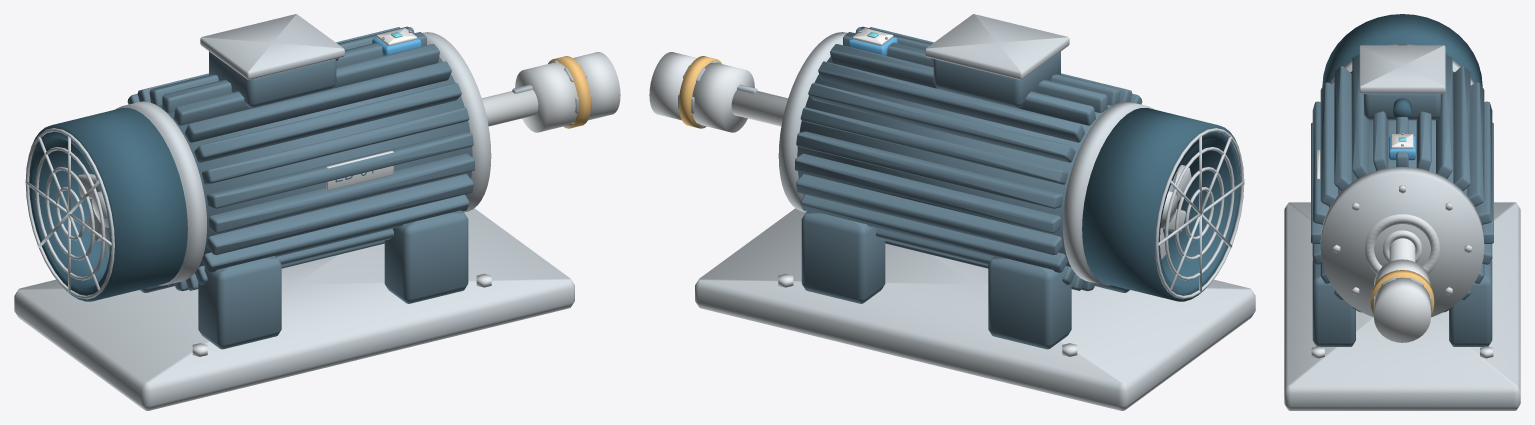
The model's file is induction_motor.glb.
3 views of the same model, side by side, from view 1: azimuth 30°, elevation 25°; view 2: azimuth 150°, elevation 25°; view 3: azimuth 270°, elevation 25° (orthographic). The views are drawn at different scales.
Parts seen in each view (by area): view 1: induction_motor/Base_Base, induction_motor/Shroud, induction_motor/Stator_Shell, induction_motor/Mounting_Foot_03, induction_motor/Mounting_Foot, induction_motor/Terminal_Lid, induction_motor/Cooling_Fin_18, induction_motor/Cooling_Fin_23, induction_motor/Cooling_Fin_19, induction_motor/Cooling_Fin_22, induction_motor/Cooling_Fin_20, induction_motor/Cooling_Fin_17 (+17 smaller); view 2: induction_motor/Base_Base, induction_motor/Shroud, induction_motor/Stator_Shell, induction_motor/Mounting_Foot_04, induction_motor/Mounting_Foot_02, induction_motor/Terminal_Lid, induction_motor/Cooling_Fin_08, induction_motor/Cooling_Fin_03, induction_motor/Cooling_Fin_07, induction_motor/Cooling_Fin_04, induction_motor/Cooling_Fin_06, induction_motor/Cooling_Fin_09 (+17 smaller); view 3: induction_motor/Base_Base, induction_motor/End_Shield_02, induction_motor/Shroud, induction_motor/Terminal_Lid, induction_motor/Coupling_Hub_B, induction_motor/Mounting_Foot_03, induction_motor/Mounting_Foot_04, induction_motor/Cooling_Fin_04, induction_motor/Cooling_Fin_22, induction_motor/Cooling_Fin_05, induction_motor/Cooling_Fin_21, induction_motor/Cooling_Fin_03 (+20 smaller).
Boxes of the visible parts, box(x1,y1,x2,y2) form: induction_motor/Base_Base: box(14, 208, 574, 410); induction_motor/Shroud: box(29, 108, 187, 301); induction_motor/Stator_Shell: box(158, 57, 472, 273); induction_motor/Mounting_Foot_03: box(384, 210, 468, 303); induction_motor/Mounting_Foot: box(198, 256, 281, 349); induction_motor/Terminal_Lid: box(200, 14, 344, 79); induction_motor/Cooling_Fin_18: box(207, 174, 473, 255); induction_motor/Cooling_Fin_23: box(185, 61, 451, 142); induction_motor/Cooling_Fin_19: box(209, 153, 474, 233); induction_motor/Cooling_Fin_22: box(194, 83, 461, 162); induction_motor/Cooling_Fin_20: box(207, 131, 473, 208); induction_motor/Cooling_Fin_17: box(202, 194, 469, 272); induction_motor/Base_Base: box(695, 208, 1255, 410); induction_motor/Shroud: box(1082, 108, 1240, 301); induction_motor/Stator_Shell: box(797, 57, 1111, 273); induction_motor/Mounting_Foot_04: box(801, 210, 885, 303); induction_motor/Mounting_Foot_02: box(988, 256, 1071, 349); induction_motor/Terminal_Lid: box(925, 14, 1069, 79); induction_motor/Cooling_Fin_08: box(796, 174, 1062, 255); induction_motor/Cooling_Fin_03: box(818, 61, 1084, 142); induction_motor/Cooling_Fin_07: box(795, 153, 1060, 233); induction_motor/Cooling_Fin_04: box(808, 83, 1075, 162); induction_motor/Cooling_Fin_06: box(796, 131, 1062, 208); induction_motor/Cooling_Fin_09: box(800, 194, 1067, 272); induction_motor/Base_Base: box(1284, 202, 1520, 410); induction_motor/End_Shield_02: box(1320, 167, 1484, 317); induction_motor/Shroud: box(1322, 14, 1482, 86); induction_motor/Terminal_Lid: box(1359, 45, 1445, 93); induction_motor/Coupling_Hub_B: box(1374, 277, 1430, 342); induction_motor/Mounting_Foot_03: box(1312, 259, 1355, 346); induction_motor/Mounting_Foot_04: box(1449, 259, 1492, 346); induction_motor/Cooling_Fin_04: box(1453, 66, 1470, 190); induction_motor/Cooling_Fin_22: box(1334, 66, 1351, 190); induction_motor/Cooling_Fin_05: box(1467, 82, 1484, 206); induction_motor/Cooling_Fin_21: box(1320, 82, 1337, 206); induction_motor/Cooling_Fin_03: box(1436, 54, 1452, 178).
Size of the model in its own units: 2.42 by 1.18 by 1.04.
